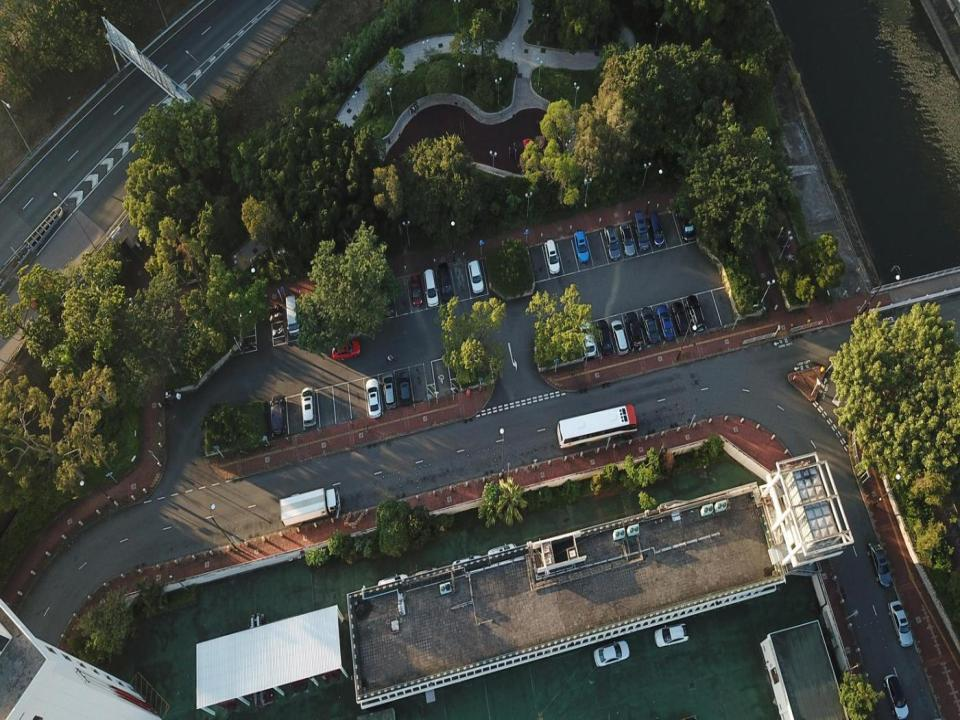bus: (557, 403, 637, 449)
car: (888, 598, 915, 649), (882, 673, 910, 719), (868, 540, 892, 588), (592, 640, 630, 668), (655, 622, 689, 650), (30, 273, 56, 308), (686, 294, 705, 334), (301, 386, 318, 428), (365, 378, 382, 418), (269, 395, 285, 436), (379, 572, 410, 592), (543, 240, 561, 274), (603, 226, 620, 262), (672, 301, 689, 336), (382, 373, 398, 410), (332, 340, 361, 360), (657, 306, 674, 340), (468, 260, 484, 294), (574, 230, 590, 264), (414, 567, 440, 586), (410, 271, 424, 306), (619, 224, 634, 255), (380, 282, 393, 316), (398, 370, 410, 402), (523, 138, 536, 164)
truck: (279, 486, 342, 524)
van: (676, 203, 696, 241), (285, 294, 302, 338), (578, 321, 596, 359), (642, 307, 660, 345), (423, 268, 440, 308), (611, 318, 628, 358), (625, 312, 642, 352), (633, 209, 649, 250), (437, 262, 453, 302), (596, 320, 612, 354), (650, 214, 665, 246)
